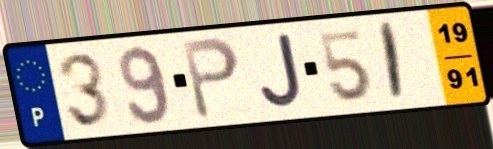3: (56, 51, 113, 128)
5: (315, 27, 374, 104)
9: (116, 43, 173, 126)
I: (379, 20, 407, 105)
J: (258, 31, 305, 112)
P: (178, 34, 242, 122)
